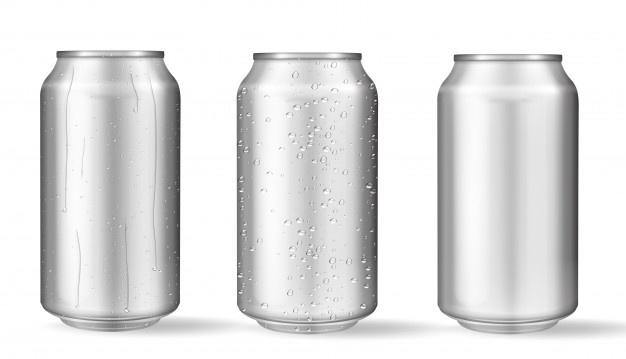lata: (237, 53, 377, 331), (438, 54, 577, 332), (41, 51, 179, 329)
